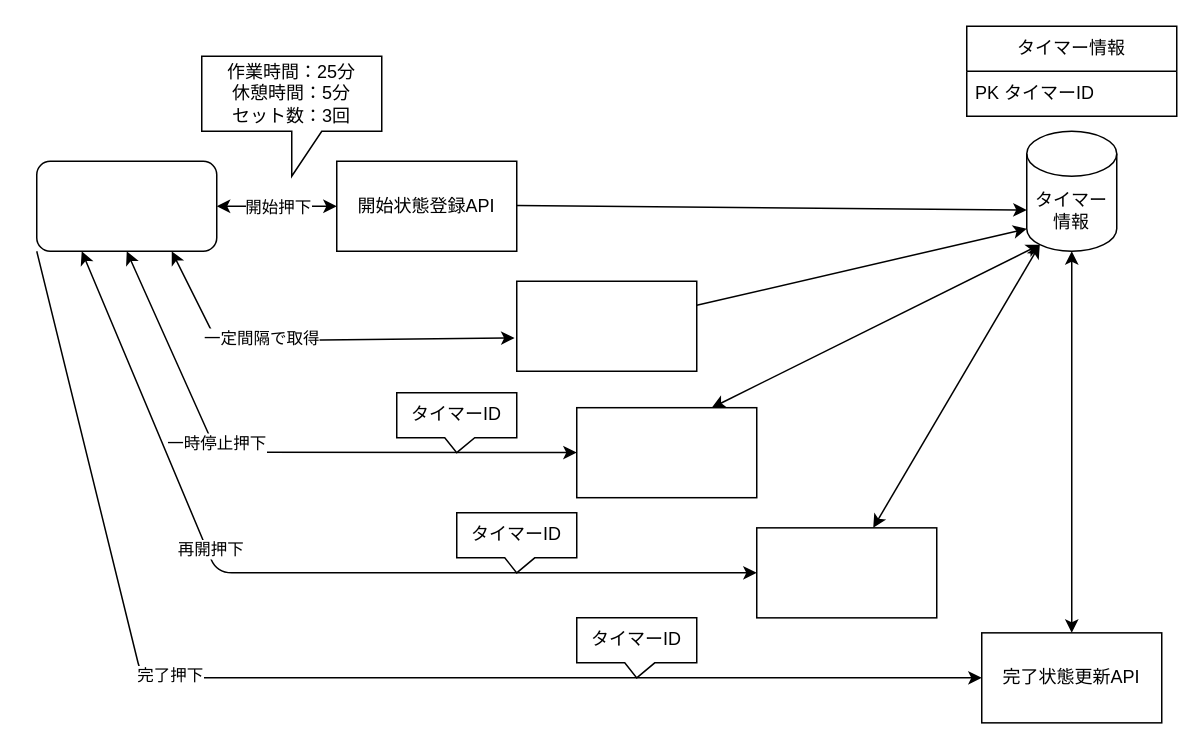
The diagram is 1203 pixels wide and 750 high, and some of its shapes have lost their labels. The shapes that lost their labels are listed below. From the top down, each one's box as (x1, y1, x2, y2) in pixels, then its label:
(35, 160, 217, 251): ポモドーロタイマ 画面
(515, 280, 697, 371): 状態取得API
(575, 406, 757, 498): 停止状態更新API
(755, 526, 937, 618): 再開状態更新API
